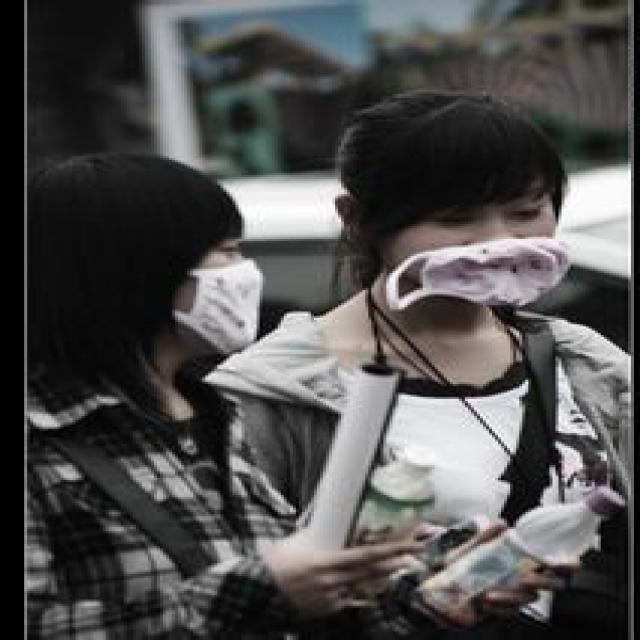mask: (394, 168, 554, 328), (169, 222, 254, 345)
